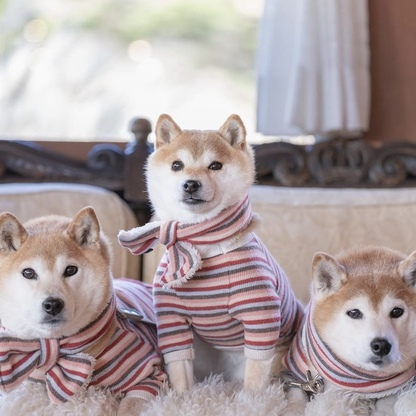shiba: (128, 110, 302, 415), (1, 202, 139, 416), (293, 238, 416, 416)
